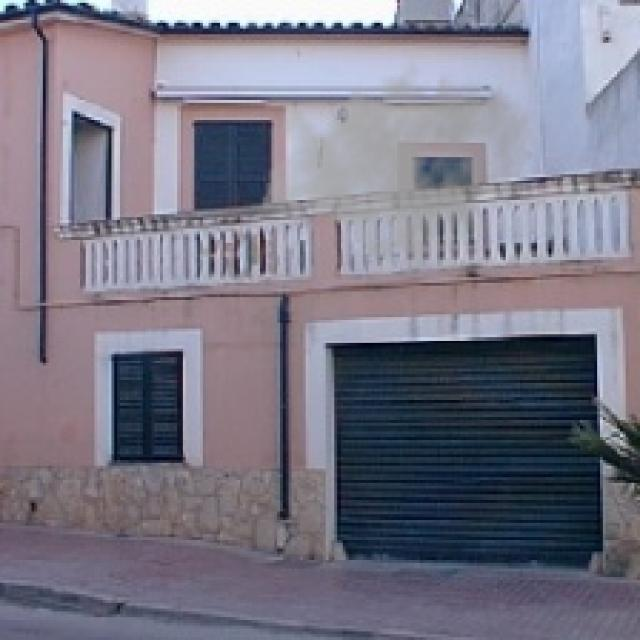Smoke: (260, 52, 534, 274)
